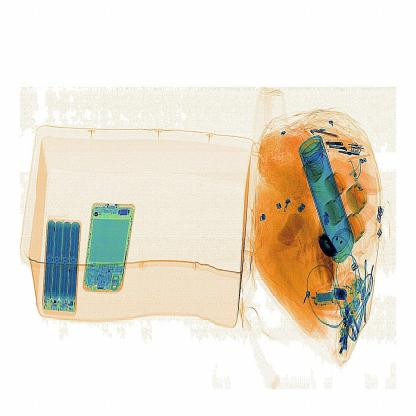scissors: (315, 230, 350, 268)
